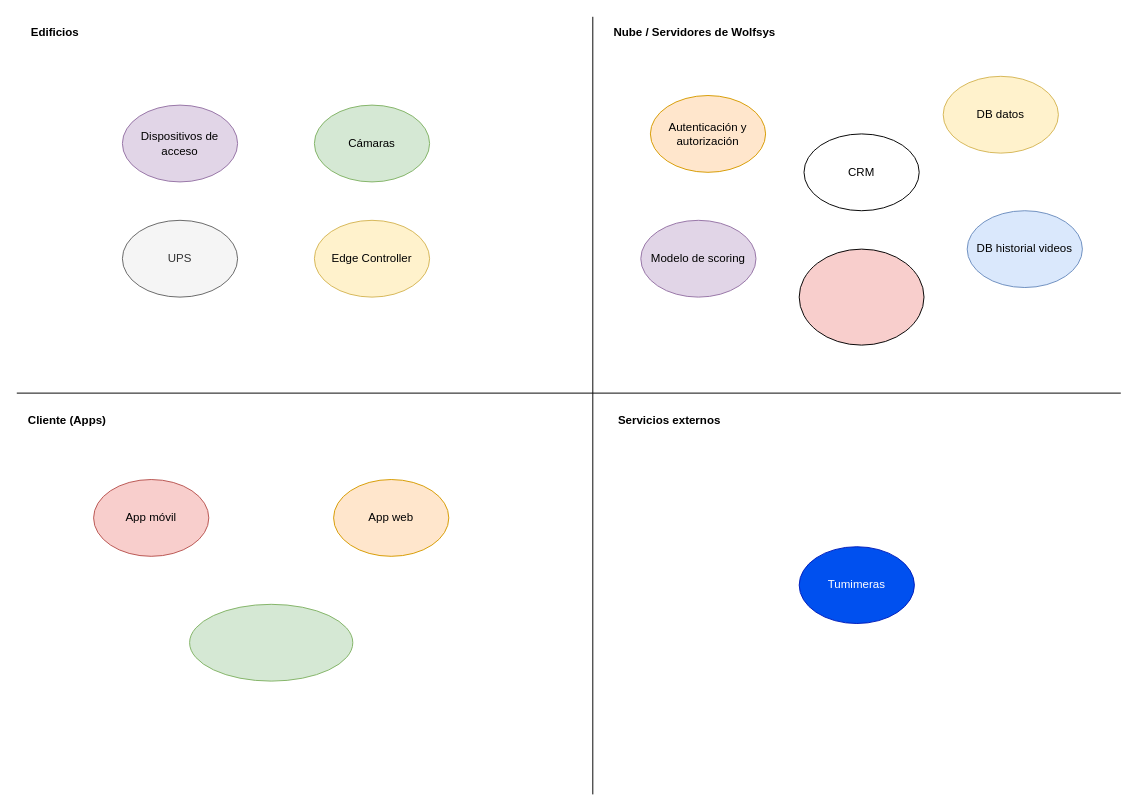
Image size: 1139x812. Some labels were removed from this diagram. The shapes that lost their labels are listed below. From the top down, each one's box as (x1, y1, x2, y2) in pixels, then its label:
(798, 248, 924, 345): B.O.B y APIs
(189, 603, 353, 681): Interfaz administrativa
